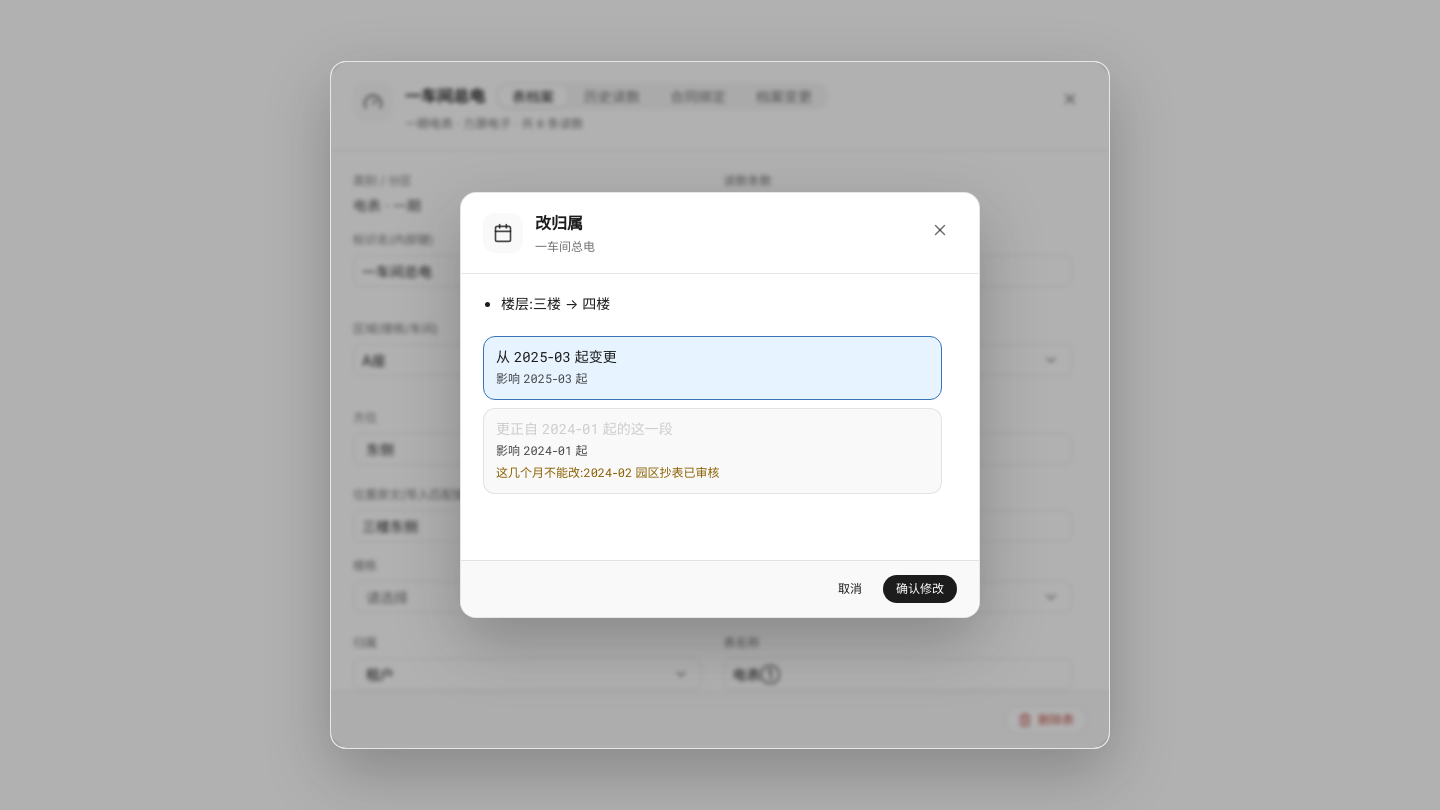
Test case: 表档案页签 · 资产列与按月写 › 分段重拉失败:归属/位置退回只读并写出原因,资产列照常可改
Step 1. Click the button "确认修改" → (920, 589), box [883,575,957,603]
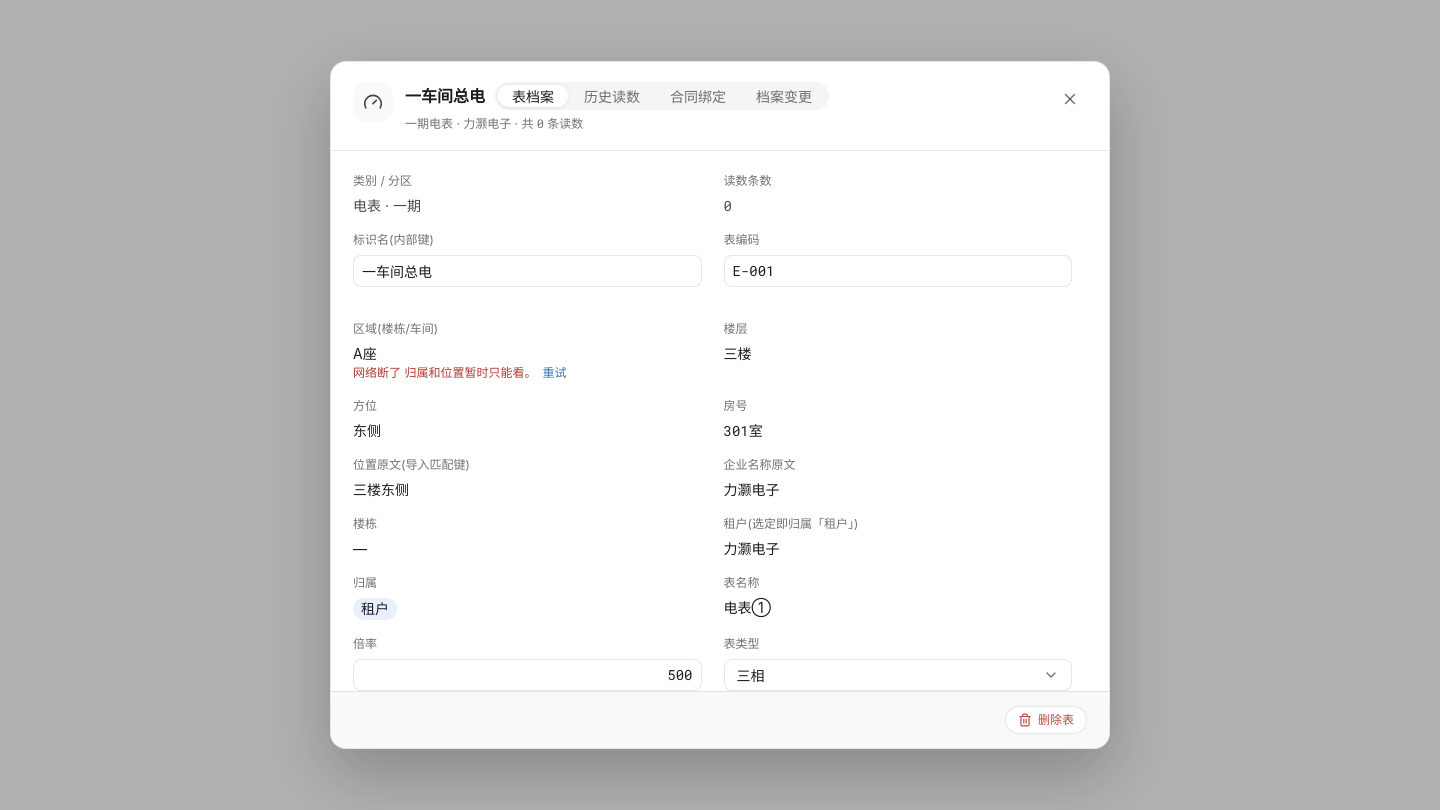
Expected: the number field named "倍率,回车/失焦保存;历史读数仍按录入时快照计用量,改倍率只影响之后新录" is shown, [353,659,702,691]
Expected: the text "网络断了 归属和位置暂时只能看。" is shown, [353,365,536,380]
